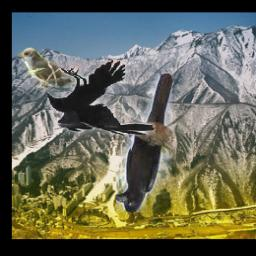Crow: (47, 61, 156, 136), (115, 73, 171, 213)
Cuckoo: (17, 47, 83, 88)
